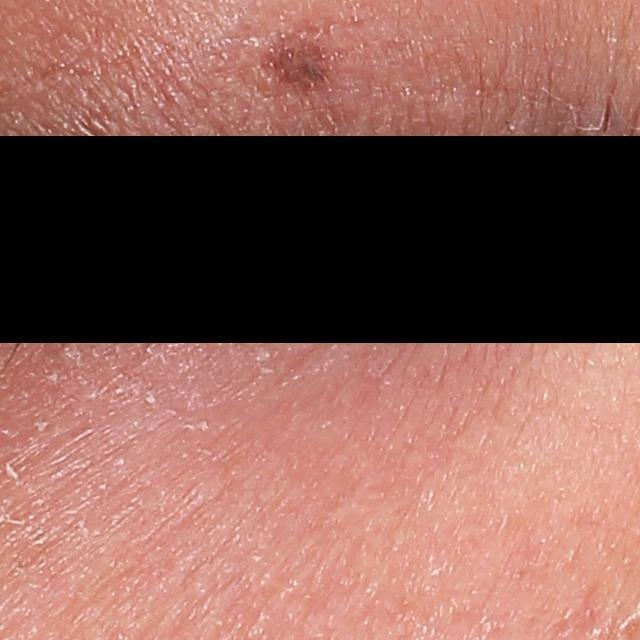nevus: (264, 39, 329, 94)
